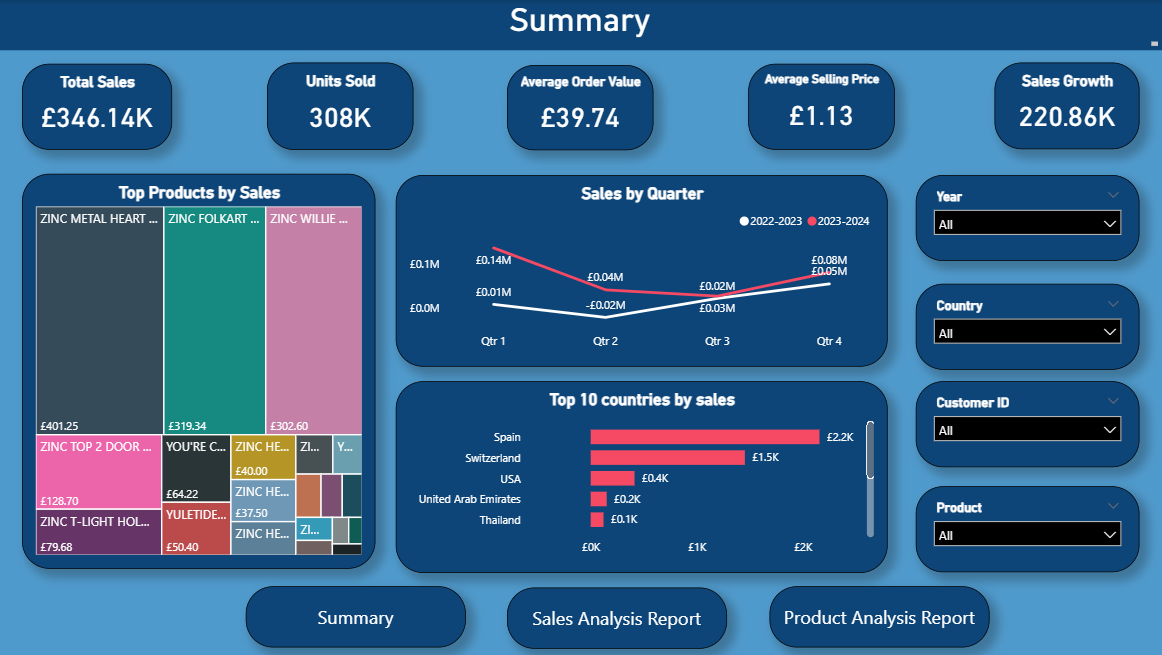

The dashboard page shown, as its layout file describes it:
{"tool":"powerbi","page":{"name":"Summary","canvas":[1280,720],"ordinal":0},"visuals":[{"type":"lineChart","title":"Sales by Quarter","fields":{"Y":["Fact_Transactions.Total Sales (FT)"],"Series":["Fact_Transactions.Source Year"],"Category":["Fact_Transactions.InvoiceDate.Variation.Date Hierarchy.Quarter"]},"box":[437.7,192.1,540,210],"z":0},{"type":"card","title":"Total Sales ","fields":{"Values":["Fact_Transactions.Total Sales (FT)"]},"box":[27.4,69.8,164.7,94.7],"z":1000},{"type":"card","title":"Units Sold","fields":{"Values":["Fact_Transactions.Units sold"]},"box":[296.1,68,160.5,96.1],"z":2000},{"type":"card","title":"Average Order Value","fields":{"Values":["Fact_Transactions.AOV"]},"box":[560.5,70.7,160.5,93.3],"z":3000},{"type":"card","title":"Average Selling Price","fields":{"Values":["Fact_Transactions.ASP"]},"box":[825,70.3,160.5,94.7],"z":4000},{"type":"card","title":"Sales Growth","fields":{"Values":["Fact_Transactions.Sales Growth (£)"]},"box":[1095.7,68.5,159,95.4],"z":5000},{"type":"actionButton","box":[559.9,644.9,241.5,67.2],"z":6000},{"type":"actionButton","box":[848,643.6,241.5,67.2],"z":7000},{"type":"textbox","title":"Summary","box":[0,0,1280.3,55],"z":8000},{"type":"treemap","title":"Top Products by Sales","fields":{"Group":["Fact_Transactions.Description"],"Values":["Fact_Transactions.Total Sales (FT)"]},"box":[27.4,190.7,388.3,433.6],"z":9000},{"type":"clusteredBarChart","title":"Top 10 countries by sales","fields":{"Category":["Fact_Transactions.Country"],"Y":["Fact_Transactions.Total Sales (FT)"]},"box":[437.7,418.5,540,210],"z":10000},{"type":"slicer","fields":{"Values":["Fact_Transactions.Source Year"]},"box":[1008.6,192.1,245.6,94.7],"z":11000},{"type":"slicer","fields":{"Values":["Fact_Transactions.Country"]},"box":[1008.6,311.5,245.6,94.7],"z":12000},{"type":"slicer","fields":{"Values":["Fact_Transactions.Customer ID"]},"box":[1008.6,418.5,245.6,94.7],"z":13000},{"type":"slicer","fields":{"Values":["Fact_Transactions.Description"]},"box":[1008.6,533.8,245.6,94.7],"z":14000},{"type":"actionButton","box":[273.1,643.6,241.5,67.2],"z":15000}]}

Visuals, with their boxes in screenshot pixels (x1, y1, x2, y2), scaled from the page's 1280x720 canvas onto the 1162x655 screenshot:
"Sales by Quarter" lineChart: {"left": 397, "top": 175, "right": 888, "bottom": 366}
"Total Sales " card: {"left": 25, "top": 63, "right": 174, "bottom": 150}
"Units Sold" card: {"left": 269, "top": 62, "right": 415, "bottom": 149}
"Average Order Value" card: {"left": 509, "top": 64, "right": 655, "bottom": 149}
"Average Selling Price" card: {"left": 749, "top": 64, "right": 895, "bottom": 150}
"Sales Growth" card: {"left": 995, "top": 62, "right": 1139, "bottom": 149}
actionButton: {"left": 508, "top": 587, "right": 728, "bottom": 648}
actionButton: {"left": 770, "top": 585, "right": 989, "bottom": 647}
"Summary" textbox: {"left": 0, "top": 0, "right": 1161, "bottom": 50}
"Top Products by Sales" treemap: {"left": 25, "top": 173, "right": 377, "bottom": 568}
"Top 10 countries by sales" clusteredBarChart: {"left": 397, "top": 381, "right": 888, "bottom": 572}
slicer - Fact_Transactions.Source Year: {"left": 916, "top": 175, "right": 1139, "bottom": 261}
slicer - Fact_Transactions.Country: {"left": 916, "top": 283, "right": 1139, "bottom": 370}
slicer - Fact_Transactions.Customer ID: {"left": 916, "top": 381, "right": 1139, "bottom": 467}
slicer - Fact_Transactions.Description: {"left": 916, "top": 486, "right": 1139, "bottom": 572}
actionButton: {"left": 248, "top": 585, "right": 467, "bottom": 647}
